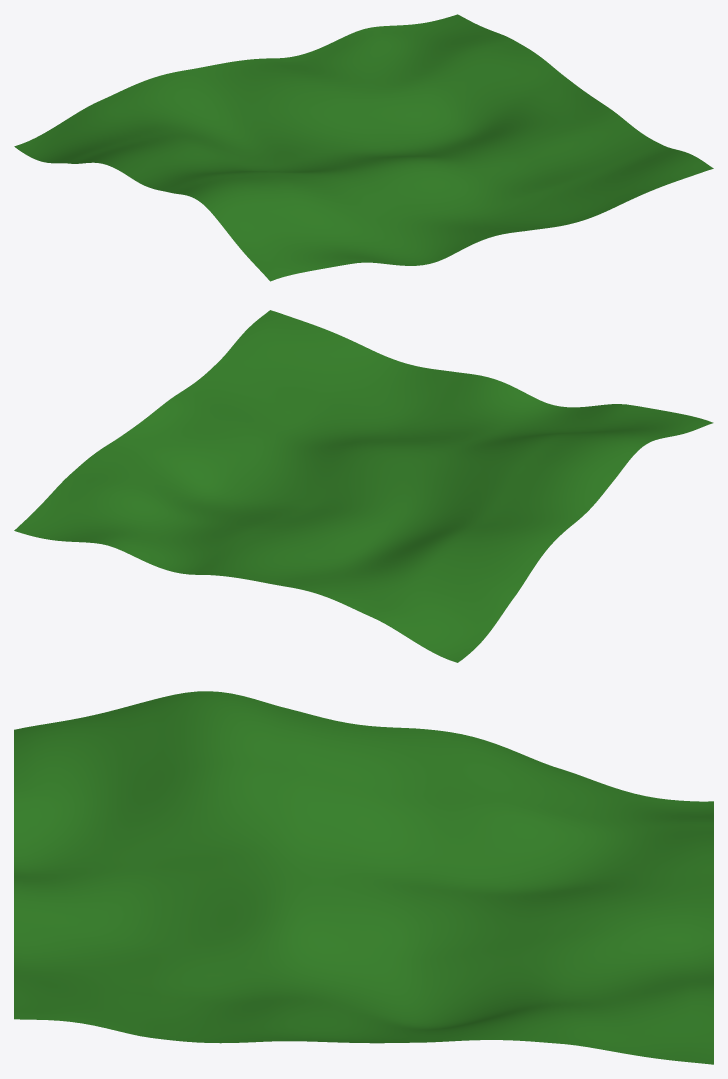
The model's file is BlenderPlateTerrain.fbx.
3 renders of one model, top to bottom at view 1: azimuth 30°, elevation 25°; view 2: azimuth 150°, elevation 25°; view 3: azimuth 270°, elevation 25°, orthographic. The views are drawn at different scales.
Parts seen in each view (by area): view 1: Terrain; view 2: Terrain; view 3: Terrain.
Part boxes in pixels (x1,y1,x2,y2): Terrain: (14,14,713,281); Terrain: (14,310,713,662); Terrain: (14,691,713,1064).
Bounding box in the file's own units: 476 × 84.14 × 476.
